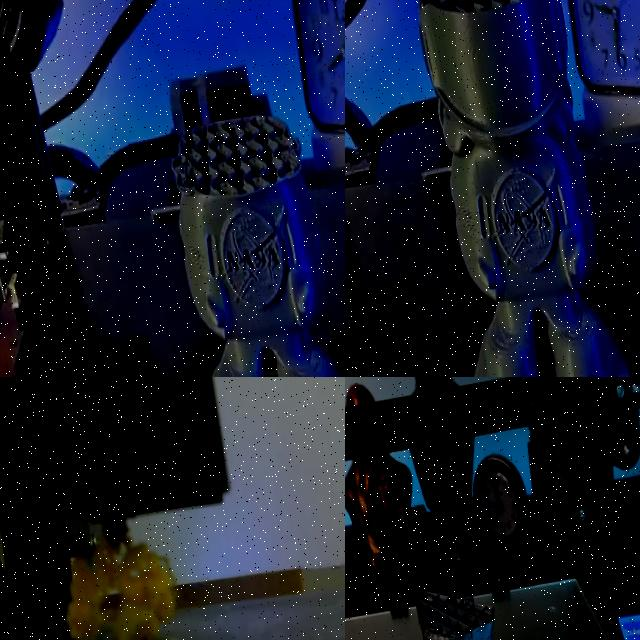spaghetti: (53, 529, 196, 640)
